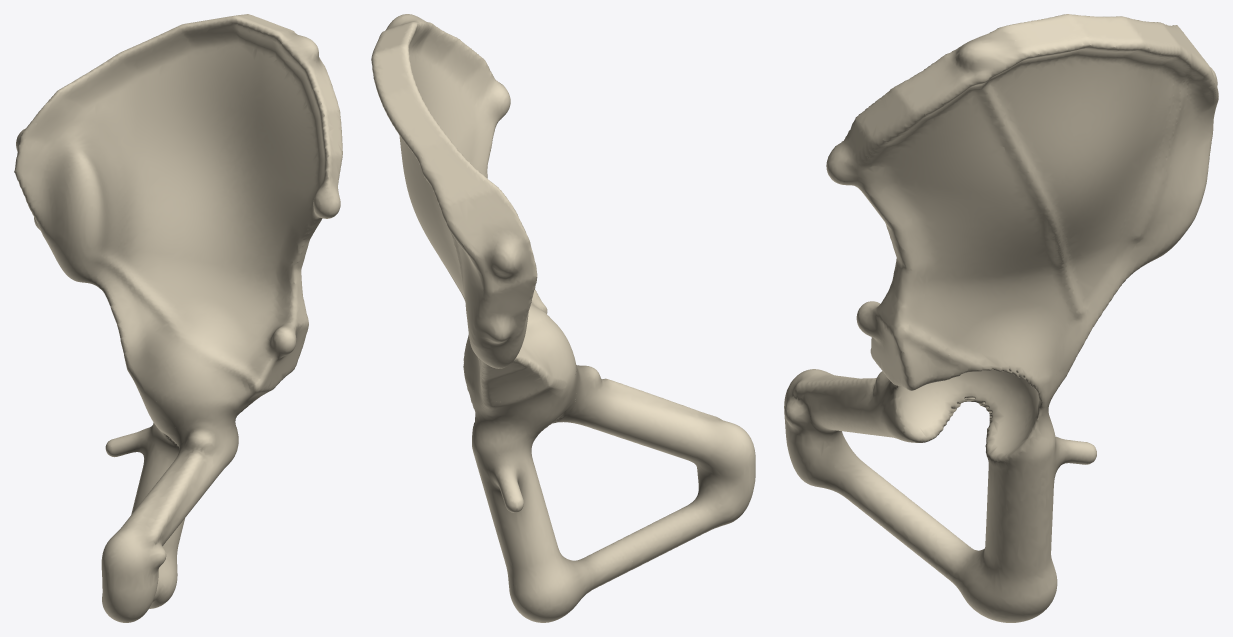
The model's file is hueso-coxal-lateral.glb.
The picture shows the model from 3 angles, left to right: view 1: azimuth 30°, elevation 25°; view 2: azimuth 150°, elevation 25°; view 3: azimuth 270°, elevation 25°; orthographic projection. The views are drawn at different scales.
Parts seen in each view (by area): view 1: ilium_L, pubis_L, ischium_L; view 2: ilium_L, ischium_L, pubis_L; view 3: ilium_L, ischium_L, pubis_L.
Boxes of the visible parts, x1,y1,x2,y2 form: ilium_L: (14,14,342,411); pubis_L: (101,403,251,622); ischium_L: (105,387,184,608); ilium_L: (371,14,576,401); ischium_L: (466,369,632,622); pubis_L: (559,365,755,573); ilium_L: (826,14,1218,390); ischium_L: (935,369,1096,622); pubis_L: (784,369,937,569).
Size of the model in its own units: 0.1406 by 0.2586 by 0.1512.
